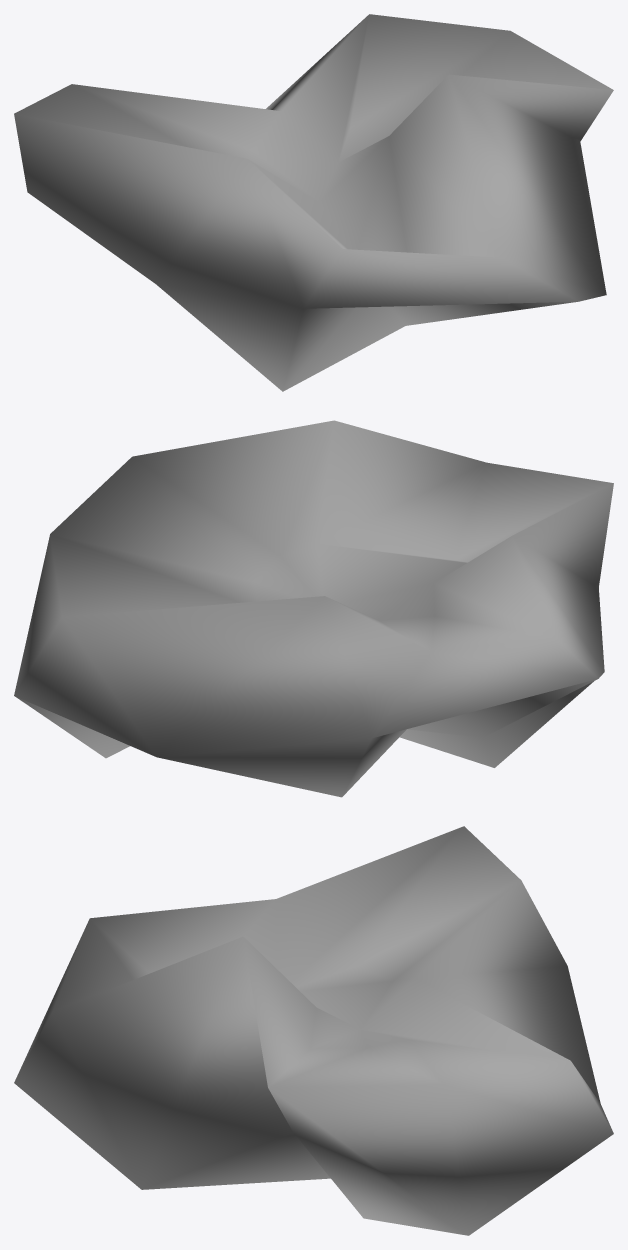
The model's file is Cup With Cover.fbx.
3 renders of one model, top to bottom at view 1: azimuth 30°, elevation 25°; view 2: azimuth 150°, elevation 25°; view 3: azimuth 270°, elevation 25°, orthographic. The views are drawn at different scales.
Visible parts, largest first — view 1: Cup With Cover; view 2: Cup With Cover; view 3: Cup With Cover.
Part boxes in pixels (x1,y1,x2,y2): Cup With Cover: (14, 14, 613, 391); Cup With Cover: (14, 420, 613, 797); Cup With Cover: (14, 826, 613, 1235).
Size of the model in its own units: 39.14 by 20.7 by 40.65.
Materials: 1 (1 with a texture image).
